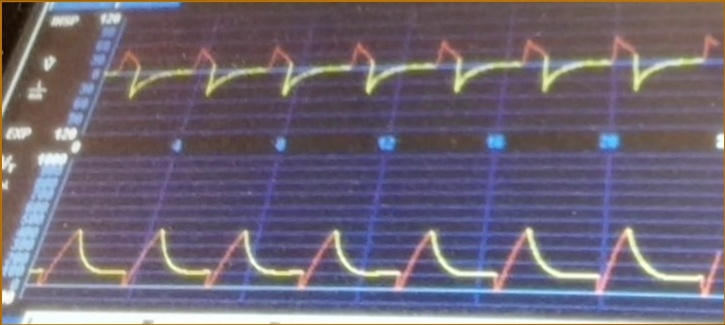Flow: (113, 30, 719, 112)
Leakage Volume: (30, 218, 720, 310)
